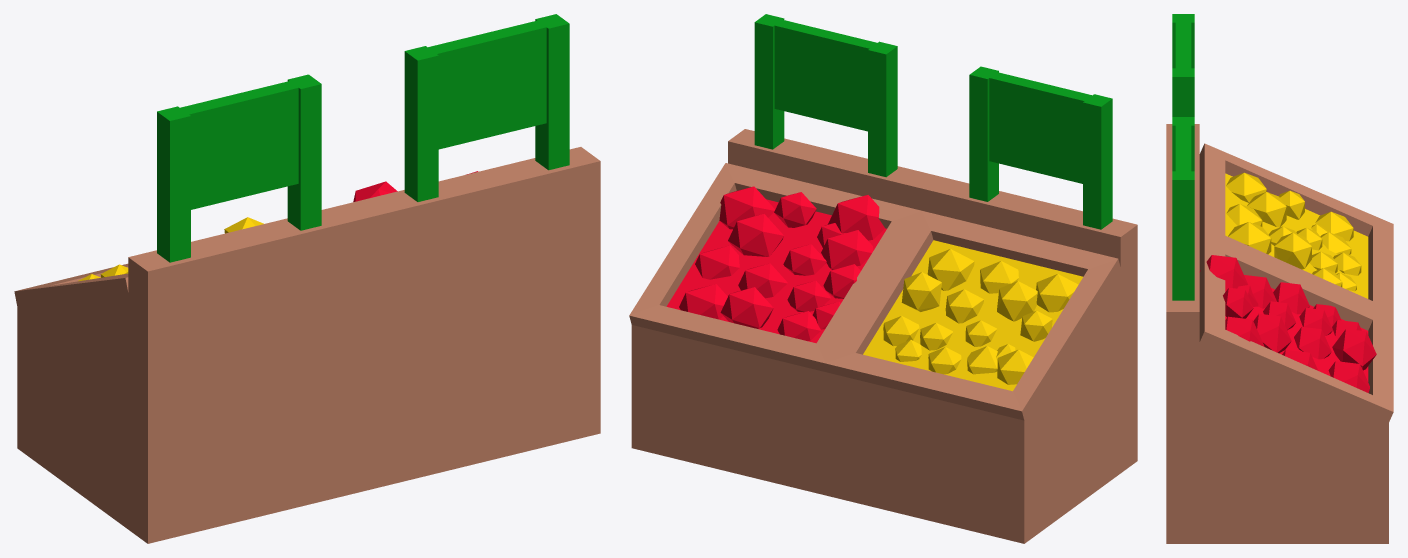
The model's file is Fruit_et_legume.fbx.
The picture shows the model from 3 angles, left to right: view 1: azimuth 30°, elevation 25°; view 2: azimuth 150°, elevation 25°; view 3: azimuth 270°, elevation 25°; orthographic projection. The views are drawn at different scales.
Parts seen in each view (by area): view 1: legume/fruit; view 2: legume/fruit; view 3: legume/fruit.
Part boxes in pixels (bbox=[...]): legume/fruit: bbox=[14, 14, 600, 543]; legume/fruit: bbox=[629, 14, 1137, 543]; legume/fruit: bbox=[1166, 14, 1393, 543].
Bounding box in the file's own units: 400 × 204 × 350.
